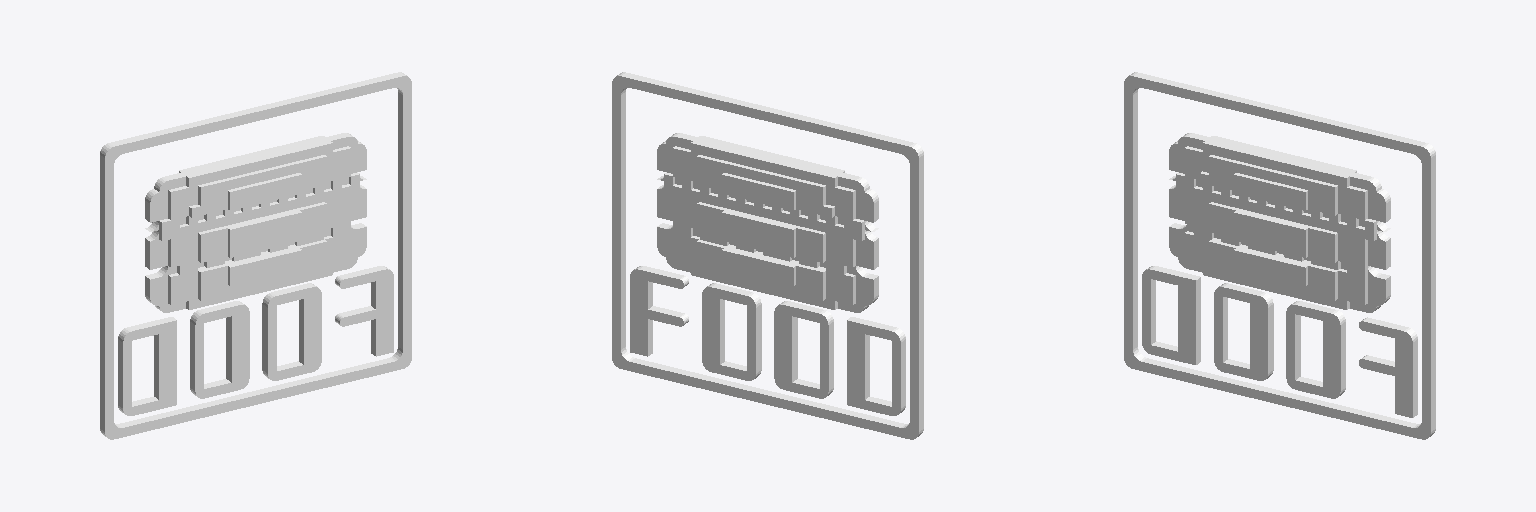
File: Food.obj
3 views of the same model, side by side, from view 1: azimuth 30°, elevation 25°; view 2: azimuth 150°, elevation 25°; view 3: azimuth 330°, elevation 25° (orthographic).
Bounding box in the file's own units: 34 × 31 × 4.